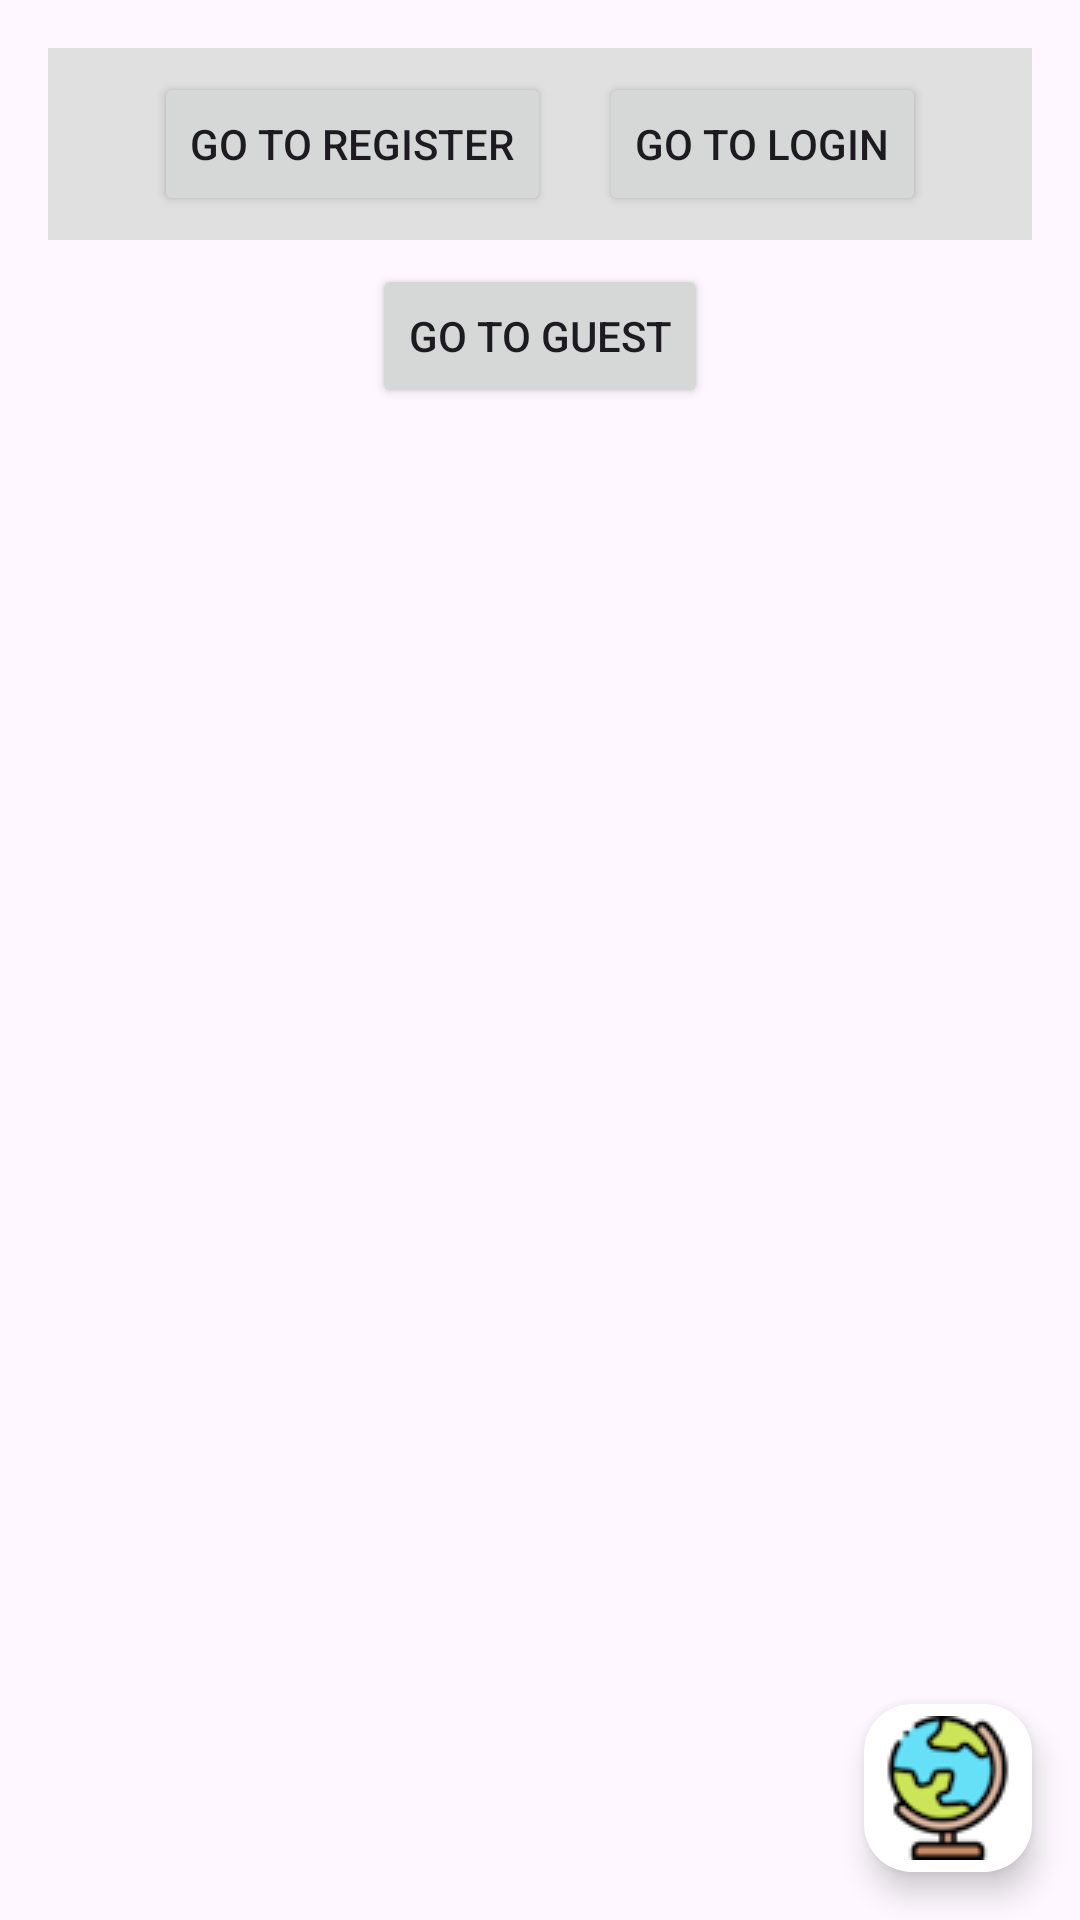

Icon bounding boxes for this 1080×1920 phone screenshot, format [left=x1, top=y1, right=x2, bottom=y2]:
globus: [left=887, top=1716, right=1009, bottom=1860]
